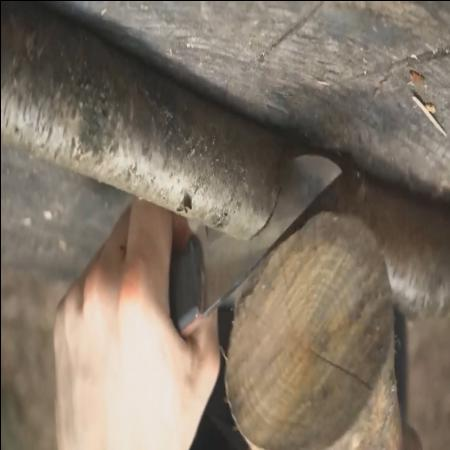long weapon: (138, 136, 351, 369)
